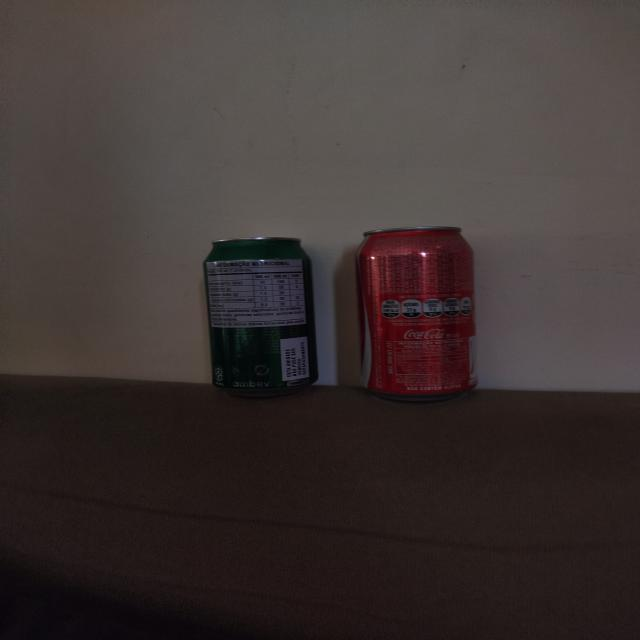Coca Cola: (356, 227, 476, 403)
Guarana: (202, 238, 318, 397)
